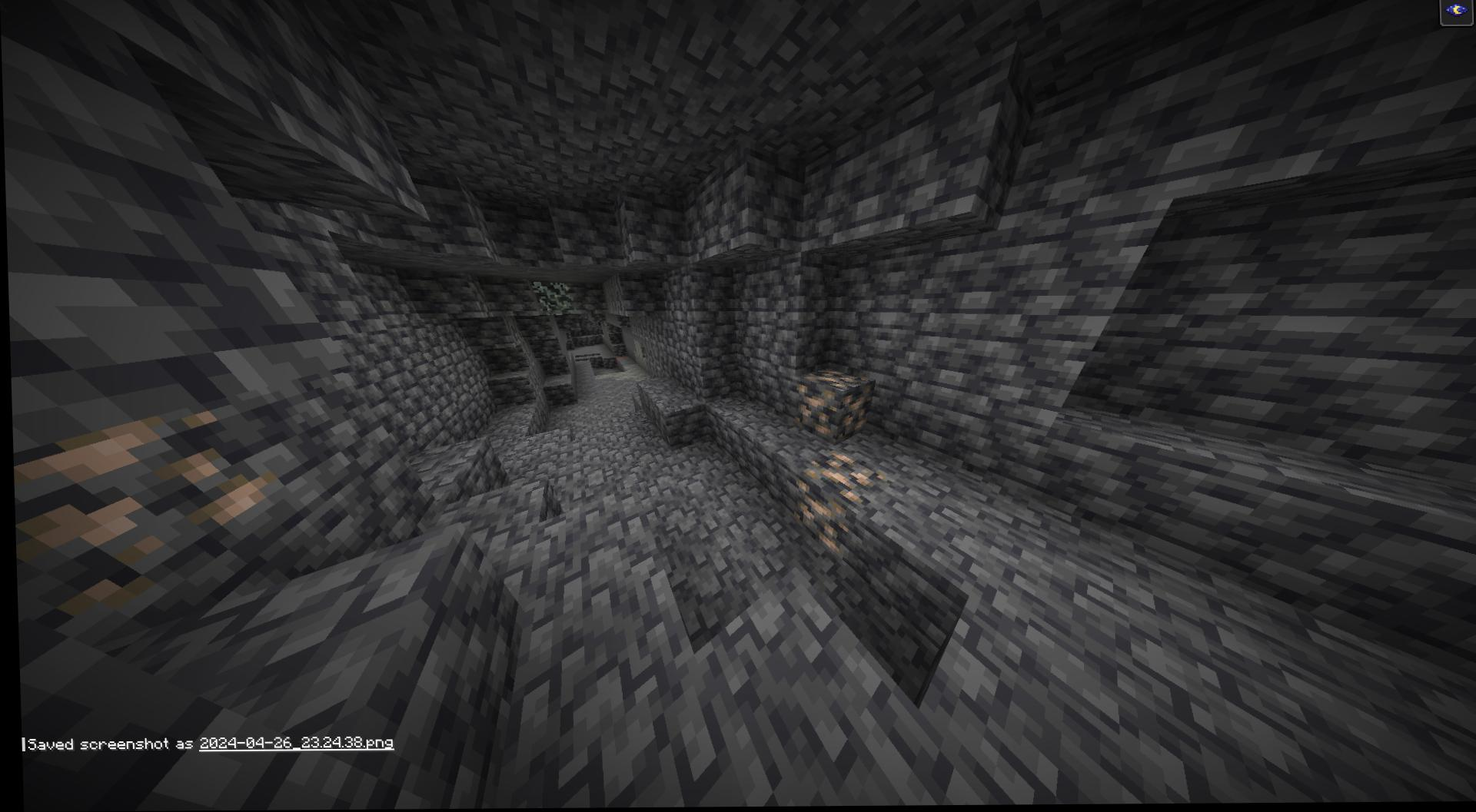iron ore: (9, 397, 256, 612), (794, 371, 869, 439), (793, 479, 850, 554), (802, 448, 880, 502)
